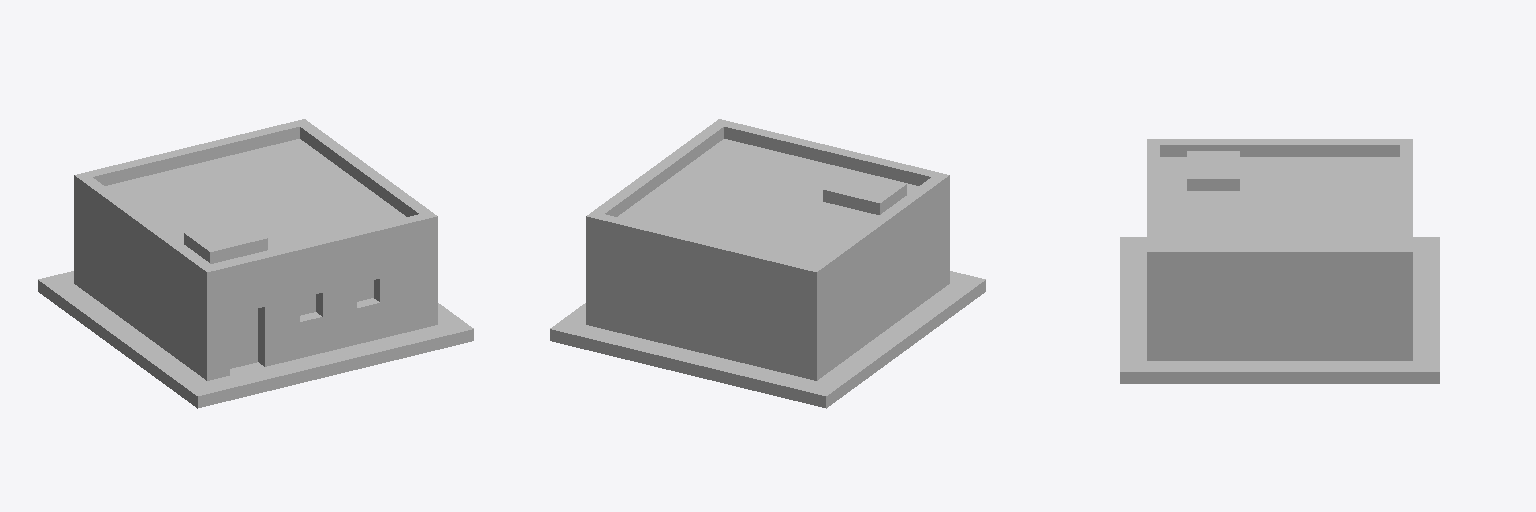
File: building2.obj
3 views of the same model, side by side, from view 1: azimuth 30°, elevation 25°; view 2: azimuth 150°, elevation 25°; view 3: azimuth 270°, elevation 25° (orthographic).
Size of the model in its own units: 24 by 10 by 24.